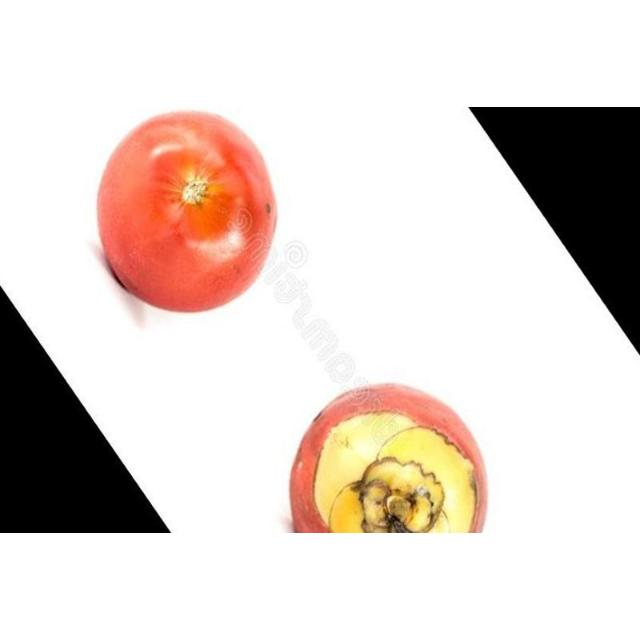good: (98, 110, 276, 312), (288, 383, 486, 533), (328, 482, 372, 534)
